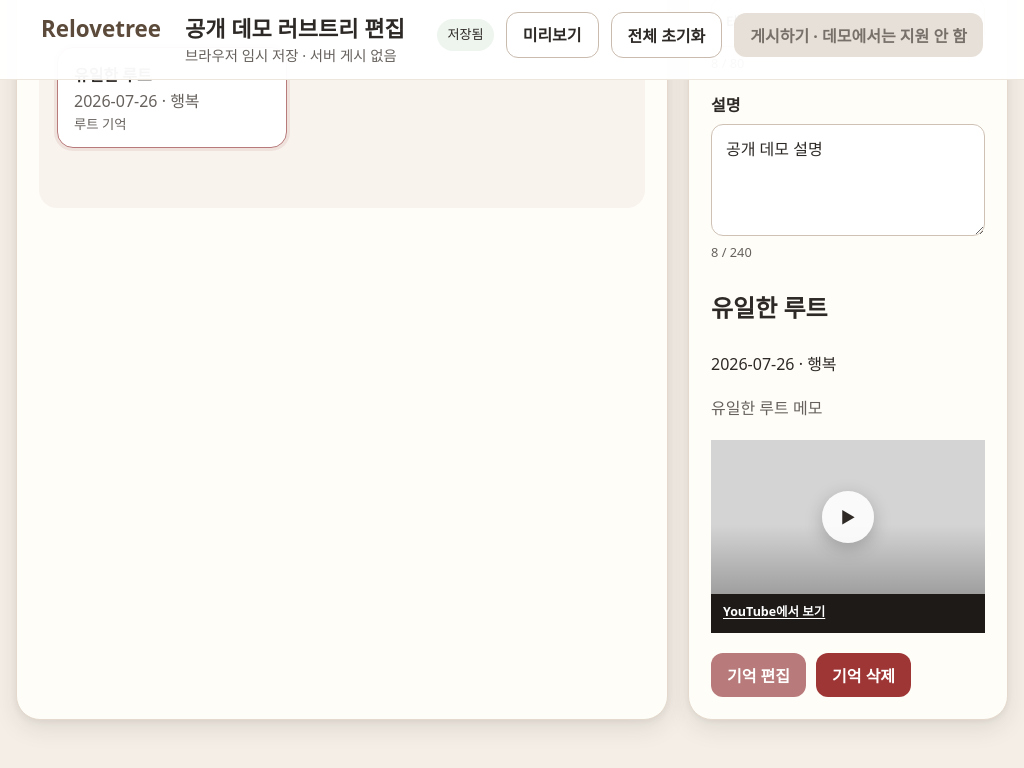
Scenario: PublicDemoEditorFlow — typed final contract › deletes the only root and returns to the empty start
(page scrolled)
Click the button "기억 삭제" at (864, 675), box left=816, top=653, right=911, bottom=697
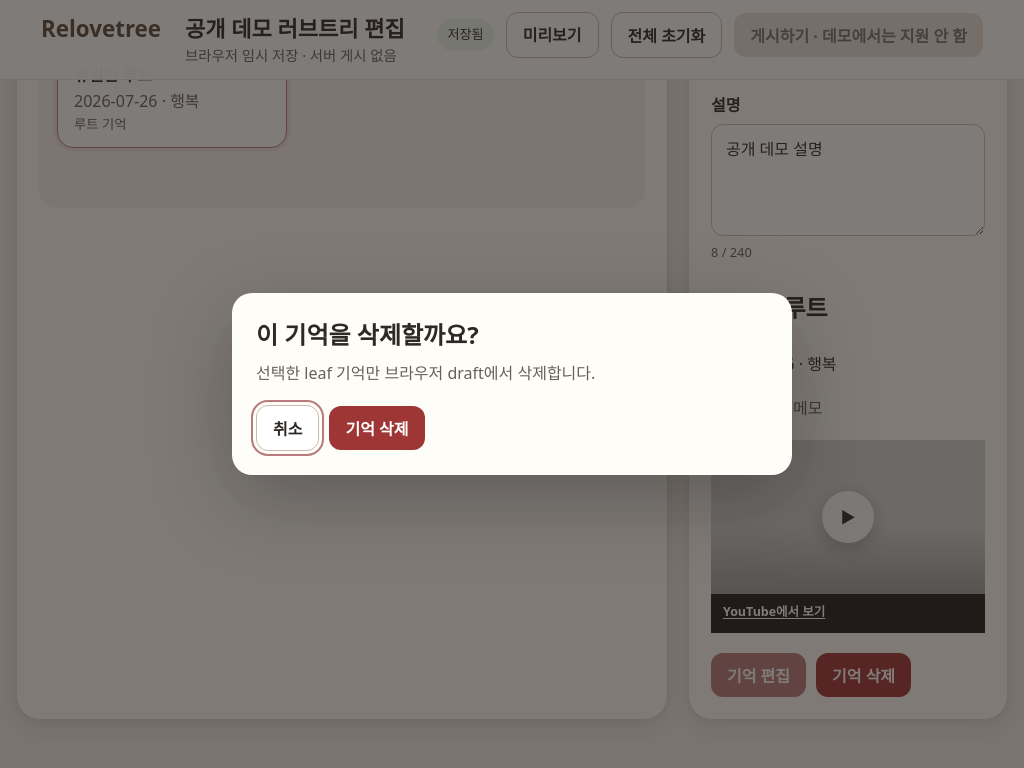
Click the button "기억 삭제" at (377, 428), box left=330, top=406, right=424, bottom=450
(page scrolled)
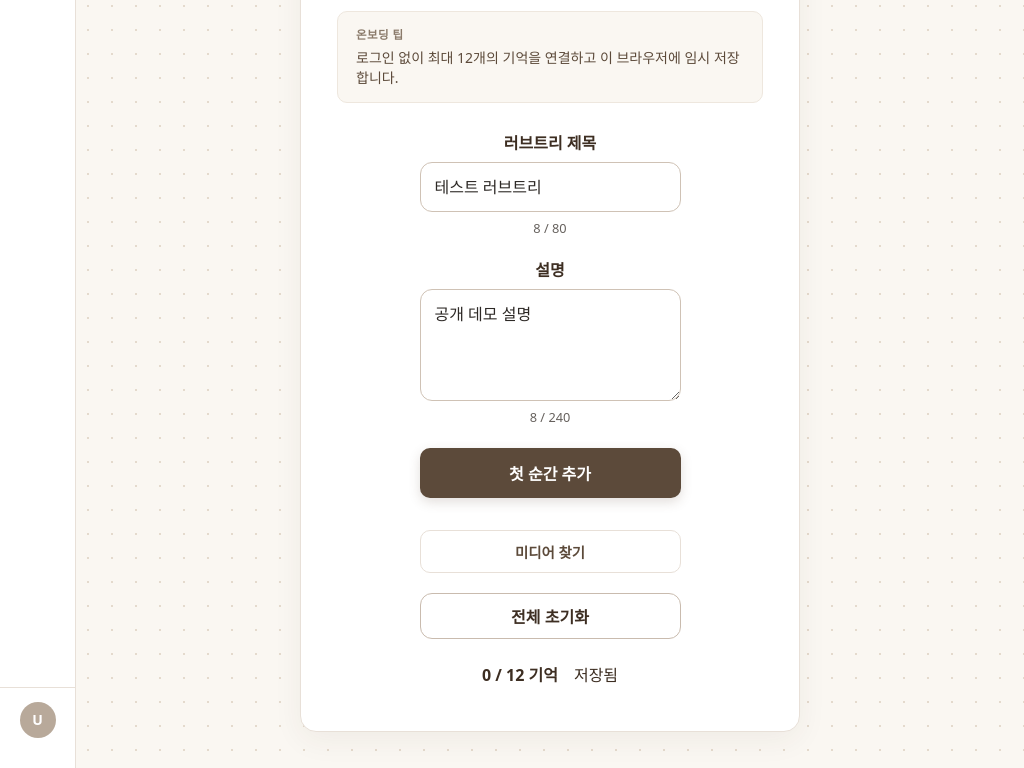
expect the text "0 / 12 기억" is shown: met, box left=482, top=662, right=558, bottom=686
